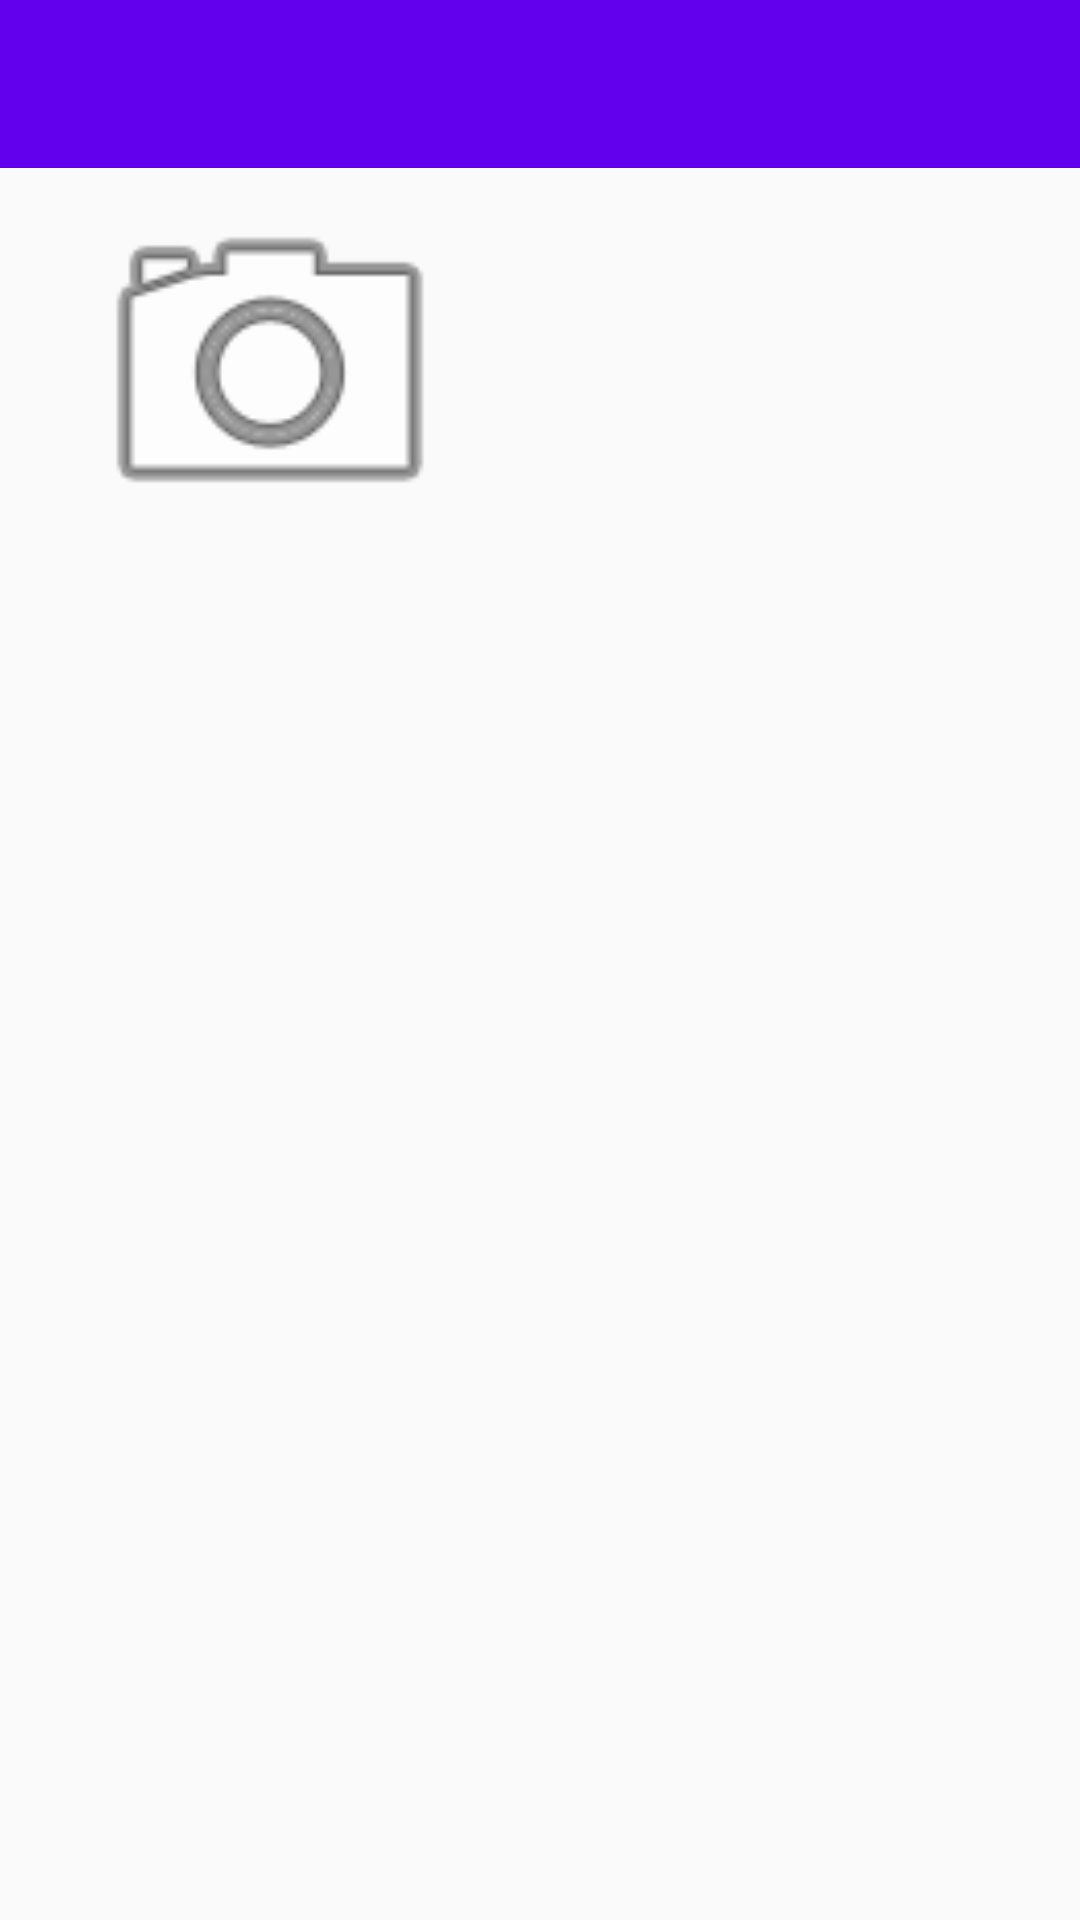

Icon click points for this 1080w x 1920h phone screenshot, format point (x, y):
camera: point (270, 360)
